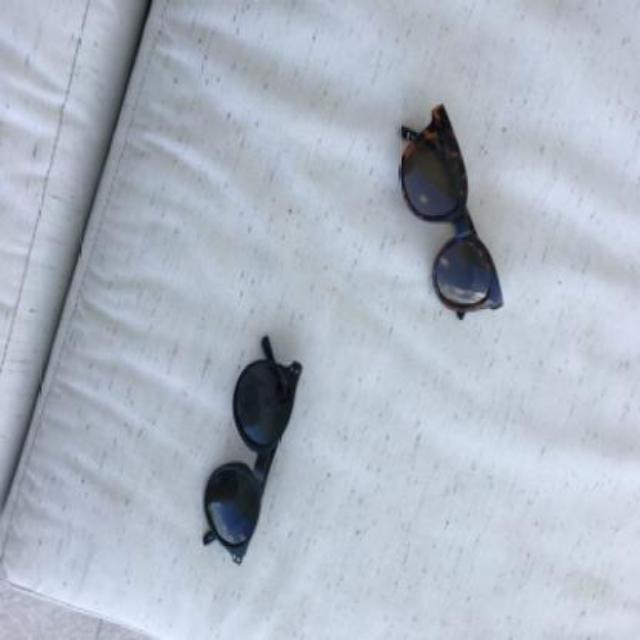sunglasses: (202, 338, 304, 566), (396, 103, 502, 321)
